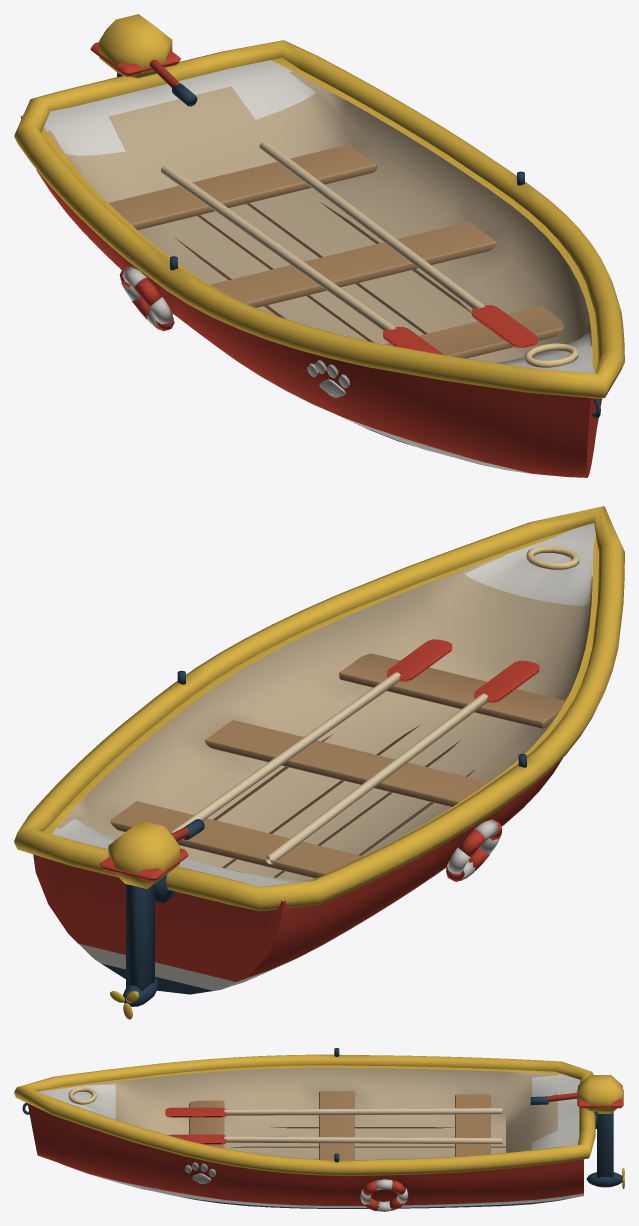
Rendered from small-boat.glb.
3 renders of one model, top to bottom at view 1: azimuth 30°, elevation 25°; view 2: azimuth 150°, elevation 25°; view 3: azimuth 270°, elevation 25°, orthographic. The views are drawn at different scales.
Parts seen in each view (by area): view 1: small-boat; view 2: small-boat; view 3: small-boat.
Part boxes in pixels (x1,y1,x2,y2): small-boat: (14, 14, 624, 477); small-boat: (14, 506, 624, 1019); small-boat: (14, 1048, 624, 1211).
Size of the model in its own units: 2.25 by 1.08 by 5.17.
